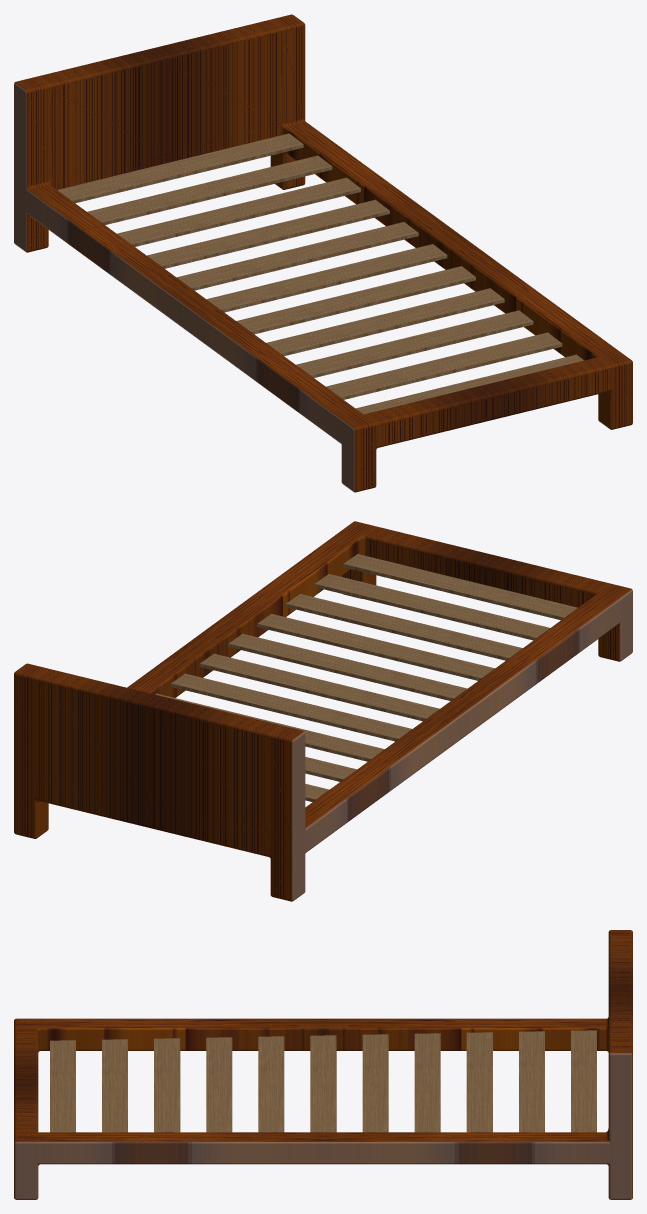
Rendered from single_bed.glb.
3 views of the same model, one above another, from view 1: azimuth 30°, elevation 25°; view 2: azimuth 150°, elevation 25°; view 3: azimuth 270°, elevation 25° (orthographic). The views are drawn at different scales.
Visible parts, largest first — view 1: Bedframe_1, Bedframe_Support_0; view 2: Bedframe_1, Bedframe_Support_0; view 3: Bedframe_1, Bedframe_Support_0.
Boxes of the visible parts, bbox=[...] form: Bedframe_1: bbox=[14, 14, 632, 492]; Bedframe_Support_0: bbox=[57, 133, 583, 414]; Bedframe_1: bbox=[14, 521, 632, 901]; Bedframe_Support_0: bbox=[155, 554, 577, 801]; Bedframe_1: bbox=[14, 930, 632, 1199]; Bedframe_Support_0: bbox=[50, 1030, 596, 1132].
Bounding box in the file's own units: 0.9 × 0.5 × 1.9.
2 materials, 2 textured.
